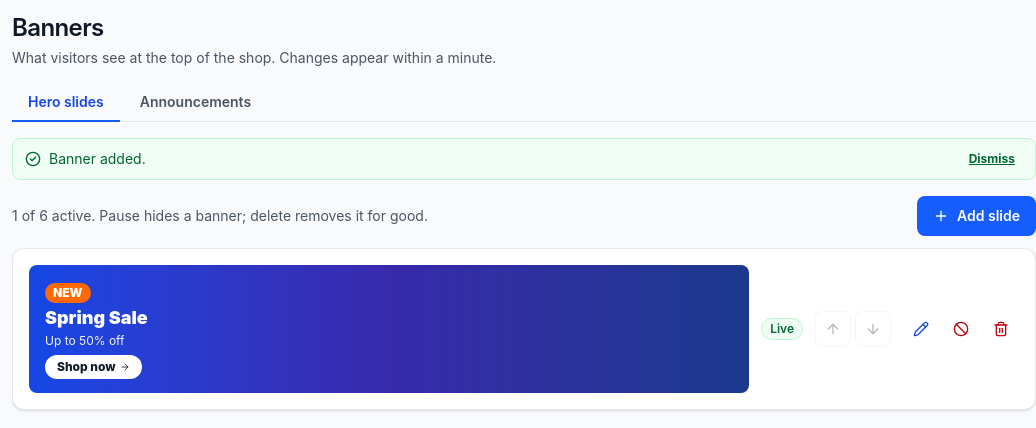
Test: Phase 5A: Banners page polish › NoticeBanner displays status role and dismisses on click
Expected: the message shows "Banner added.", [49,150,146,167]
Step 1. Click the button "Dismiss" → click(992, 159), box [961,147,1023,171]
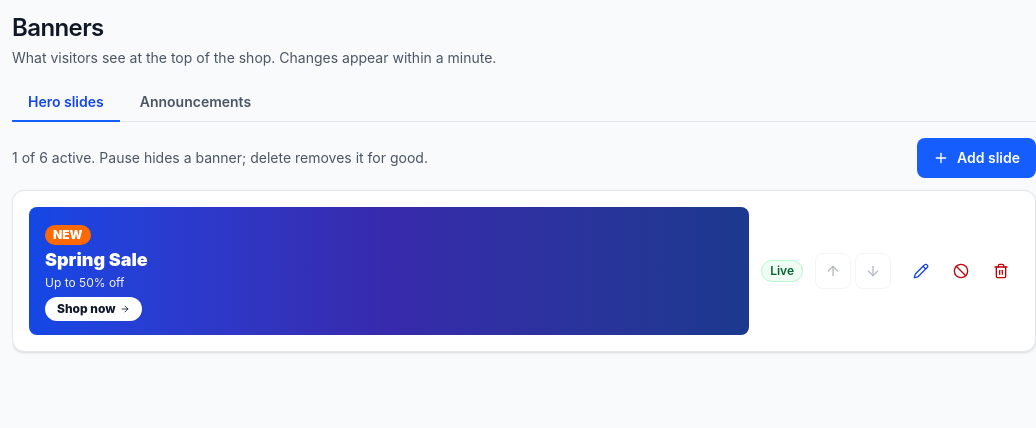
Now the message "Banner added. Dismiss" is gone
